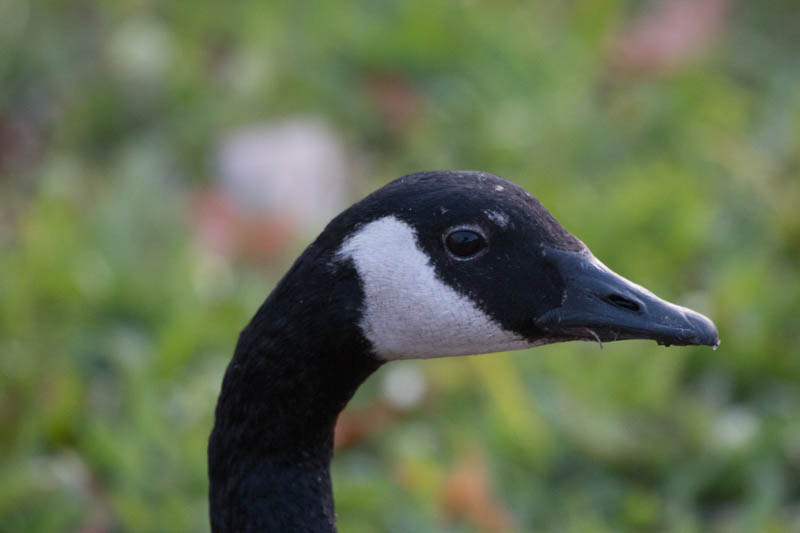goose-head: (311, 171, 718, 366)
